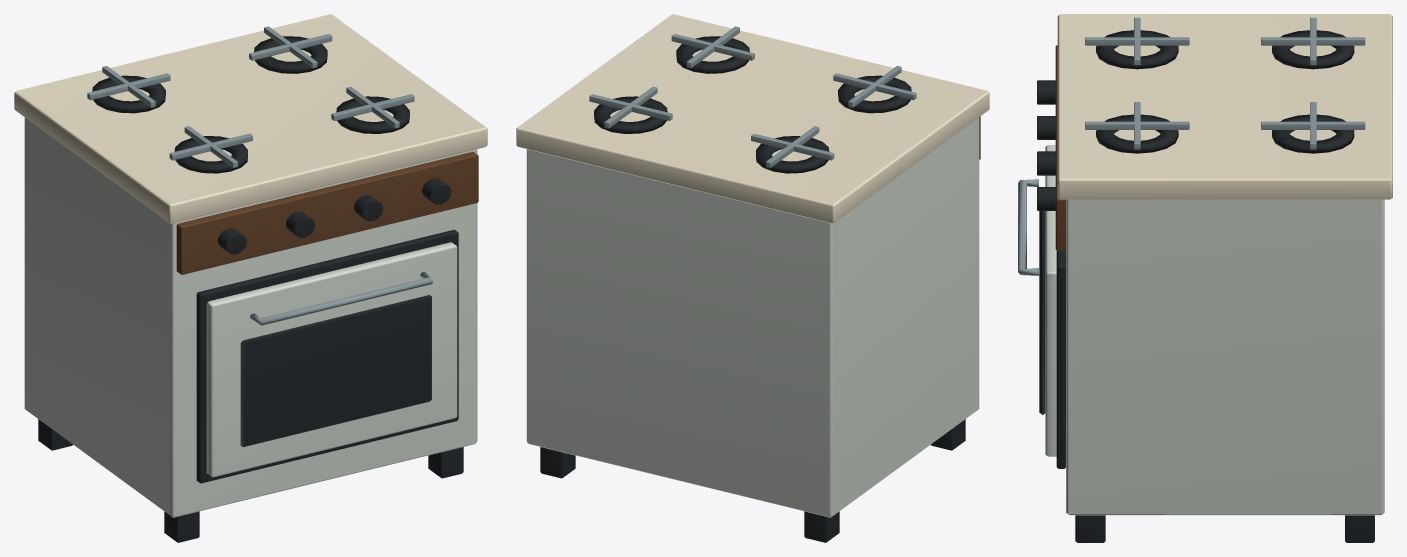
File: S043_kitchen_stove_rebuilt.glb
3 renders of one model, left to right at view 1: azimuth 30°, elevation 25°; view 2: azimuth 150°, elevation 25°; view 3: azimuth 270°, elevation 25°, orthographic. The views are drawn at different scales.
Parts seen in each view (by area): view 1: Warm_painted_enamel, Warm_ivory, Deep_joint_recess, Oak_end_and_edge, Brushed_steel; view 2: Warm_painted_enamel, Warm_ivory, Deep_joint_recess, Brushed_steel; view 3: Warm_painted_enamel, Warm_ivory, Deep_joint_recess, Brushed_steel, Oak_end_and_edge.
Boxes of the visible parts, <box> form: Warm_painted_enamel: <box>24,117,477,517</box>; Warm_ivory: <box>14,14,487,223</box>; Deep_joint_recess: <box>38,36,463,542</box>; Oak_end_and_edge: <box>176,151,478,274</box>; Brushed_steel: <box>87,26,432,325</box>; Warm_painted_enamel: <box>526,117,979,517</box>; Warm_ivory: <box>516,14,989,223</box>; Deep_joint_recess: <box>540,36,965,542</box>; Brushed_steel: <box>589,26,916,167</box>; Warm_painted_enamel: <box>1045,145,1384,515</box>; Warm_ivory: <box>1057,14,1392,199</box>; Deep_joint_recess: <box>1037,30,1374,542</box>; Brushed_steel: <box>1018,17,1365,275</box>; Oak_end_and_edge: <box>1055,45,1065,250</box>.
Size of the model in its own units: 0.93 by 1.01 by 0.885.
